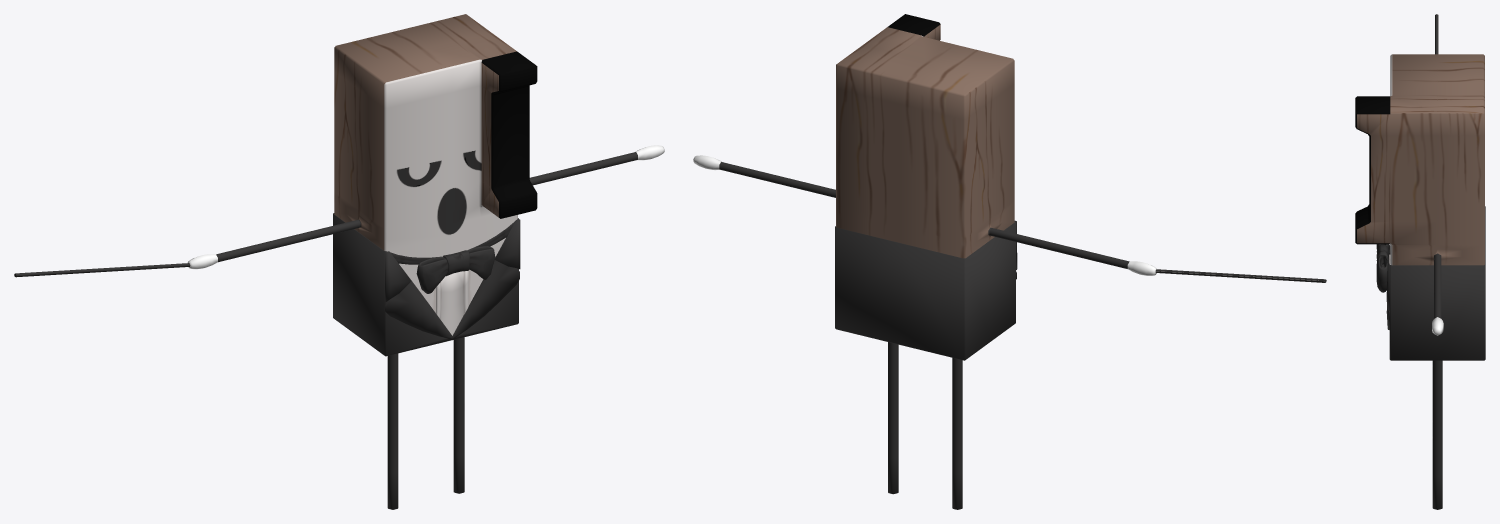
File: modeling_pianoman.FBX
The picture shows the model from 3 angles, left to right: view 1: azimuth 30°, elevation 25°; view 2: azimuth 150°, elevation 25°; view 3: azimuth 270°, elevation 25°; orthographic projection. The views are drawn at different scales.
Parts seen in each view (by area): view 1: cr_pianomantop, cr_pianomanunder; view 2: cr_pianomantop, cr_pianomanunder; view 3: cr_pianomantop, cr_pianomanunder.
Part boxes in pixels (x1,y1,x2,y2): cr_pianomantop: (14, 14, 664, 277); cr_pianomanunder: (333, 213, 520, 509); cr_pianomantop: (693, 14, 1326, 282); cr_pianomanunder: (835, 220, 1017, 509); cr_pianomantop: (1355, 14, 1484, 335); cr_pianomanunder: (1376, 206, 1485, 509).
Bounding box in the file's own units: 183 × 122 × 35.04.
